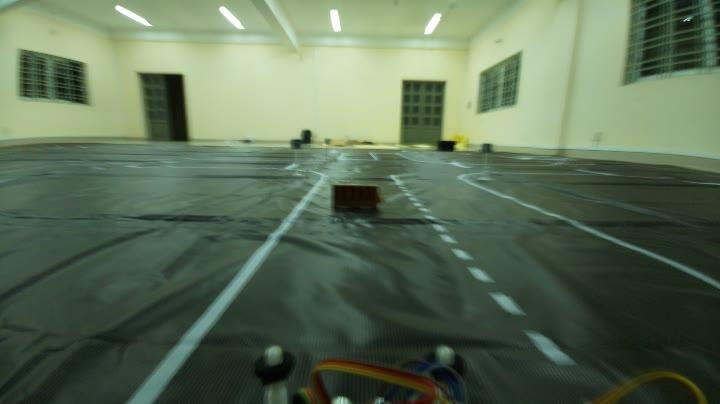roadblock: (326, 180, 384, 220)
